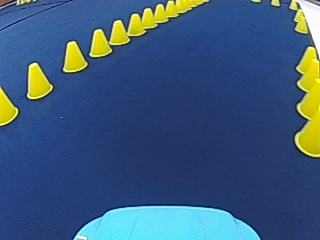cone: (293, 55, 319, 149), (294, 102, 319, 158), (25, 60, 53, 98), (296, 75, 319, 120), (61, 39, 88, 72), (298, 57, 320, 91), (295, 46, 318, 78), (88, 27, 111, 56), (0, 86, 18, 123), (108, 19, 129, 44), (126, 12, 144, 35), (140, 7, 155, 28), (152, 3, 167, 22), (294, 11, 306, 31), (164, 0, 176, 17)
